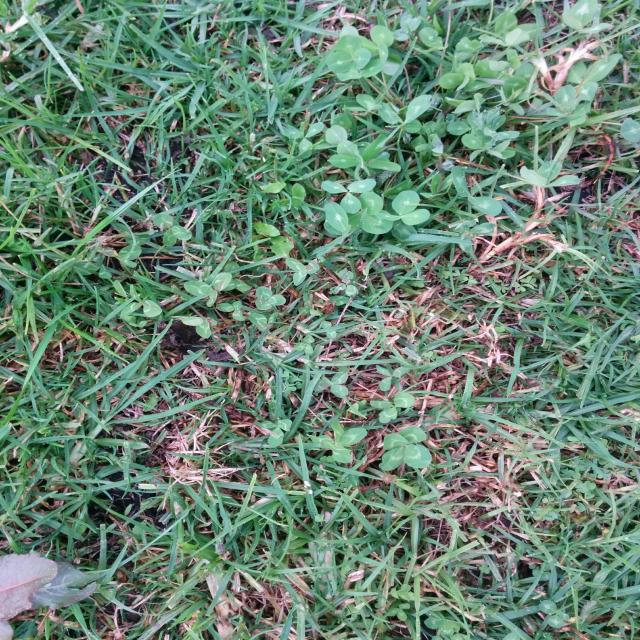Four Leaf Clover: (379, 426, 432, 471)
